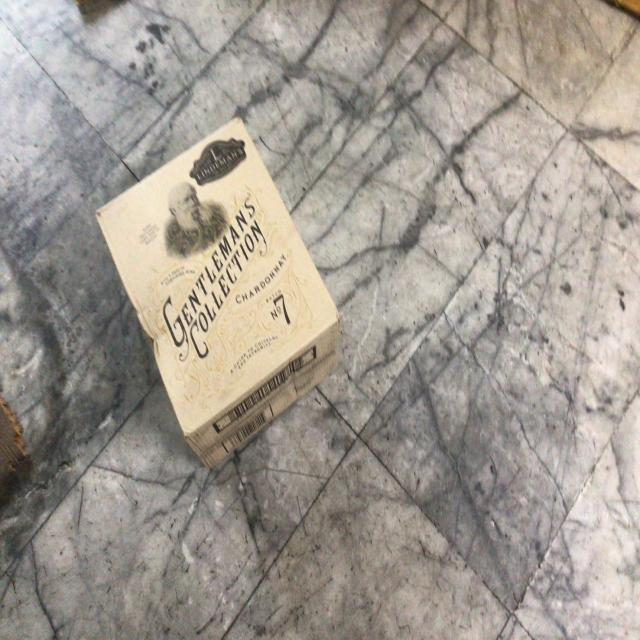cardboard: (99, 107, 339, 468)
